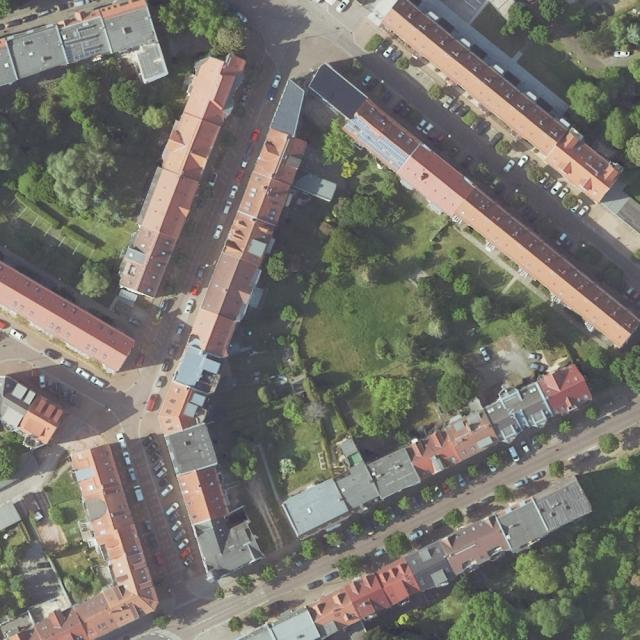PV: (345, 115, 409, 171), (65, 46, 101, 62)
